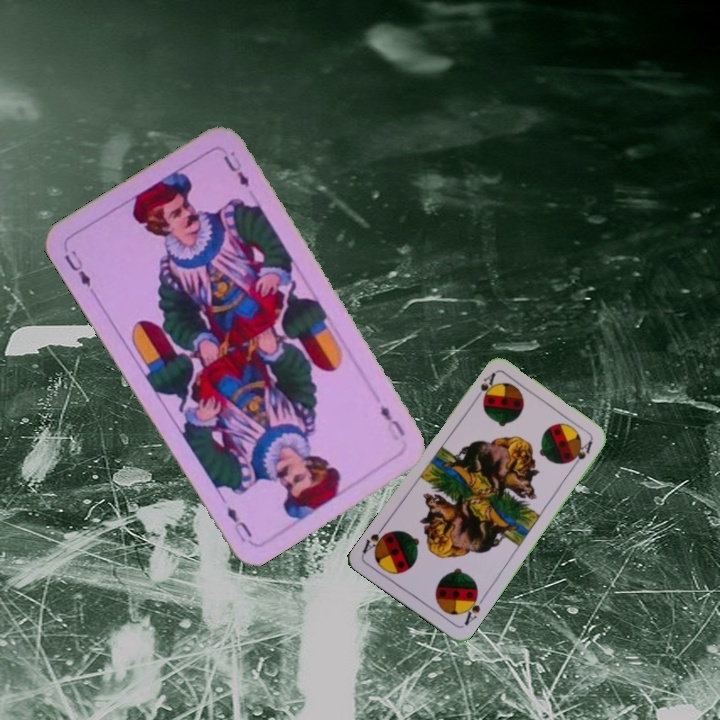EU: (60, 246, 94, 290), (376, 401, 408, 444)
SA: (459, 589, 487, 628), (470, 368, 499, 405)
